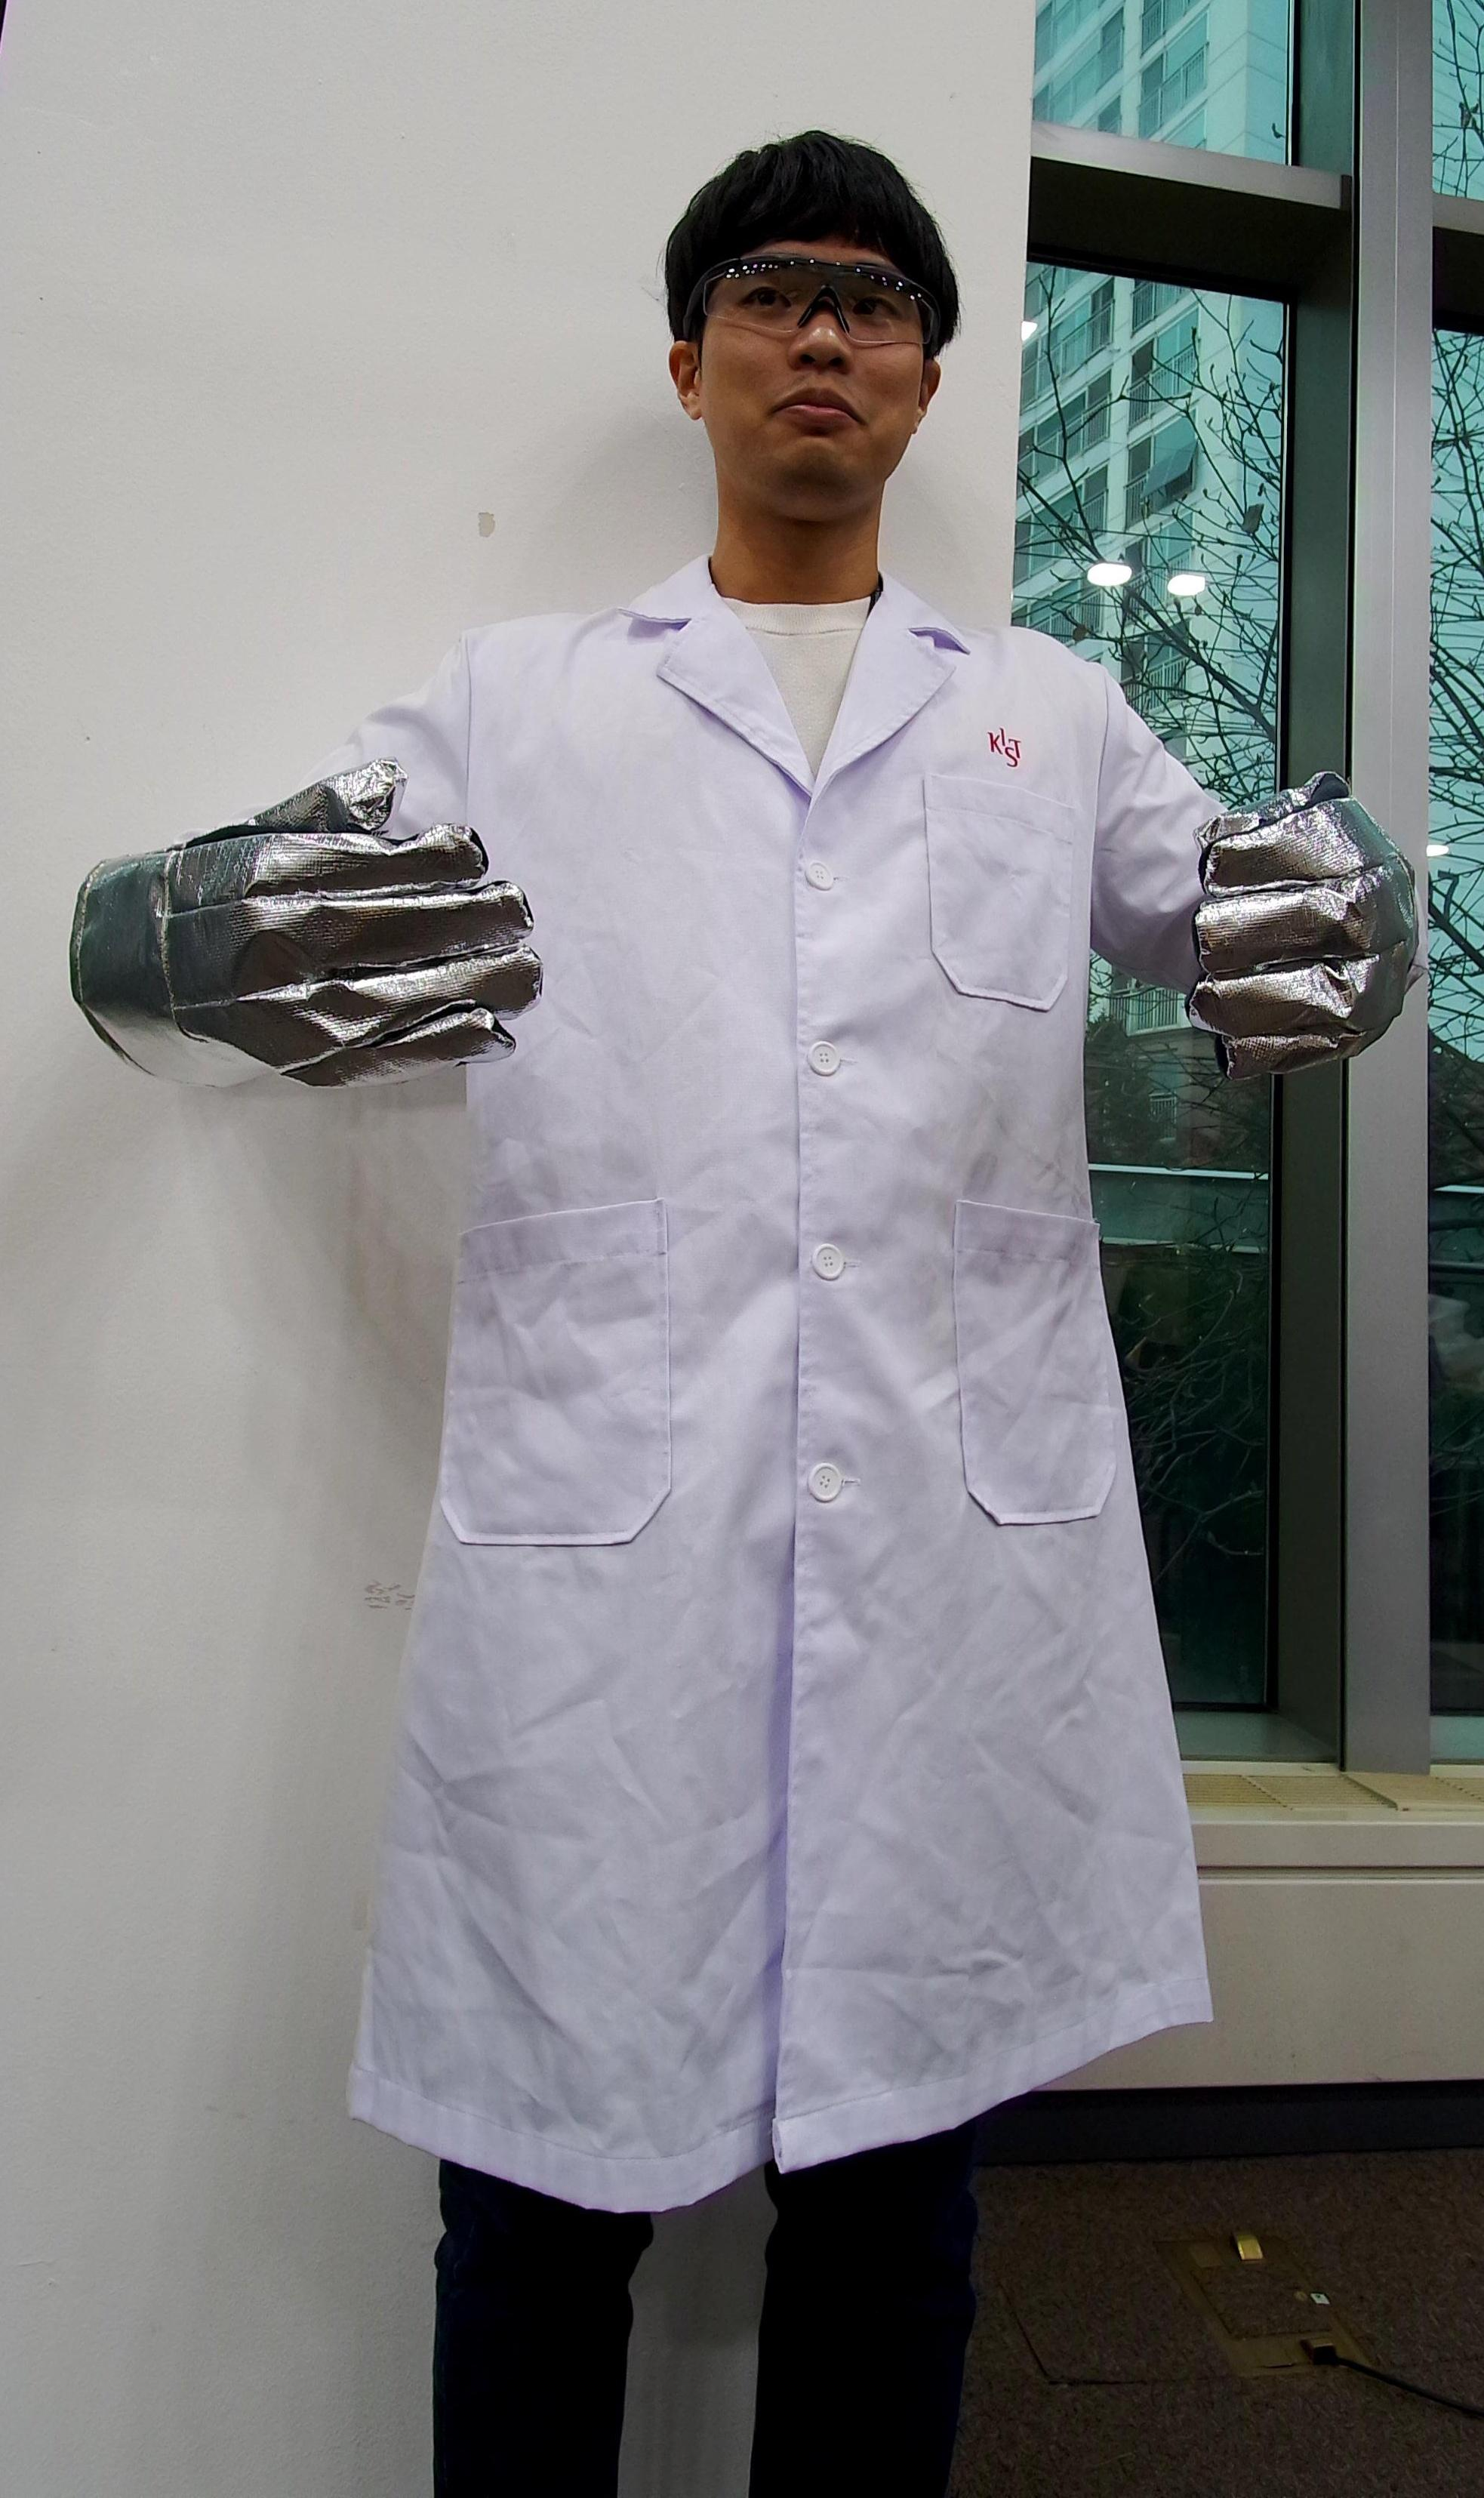lab_coat: (484, 659, 1157, 2086)
